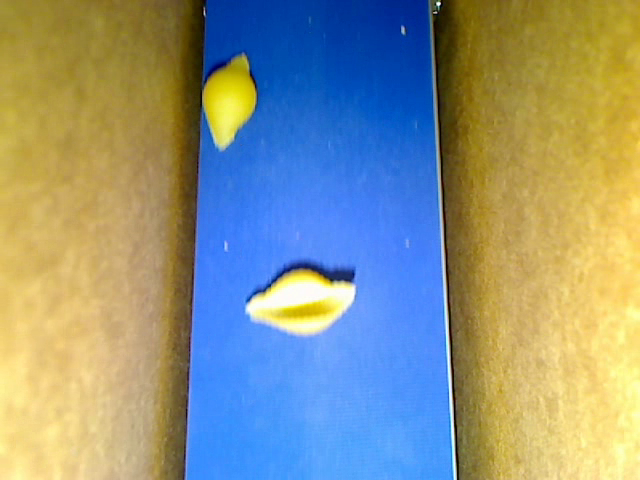shell: (244, 267, 355, 337), (201, 51, 256, 153)
